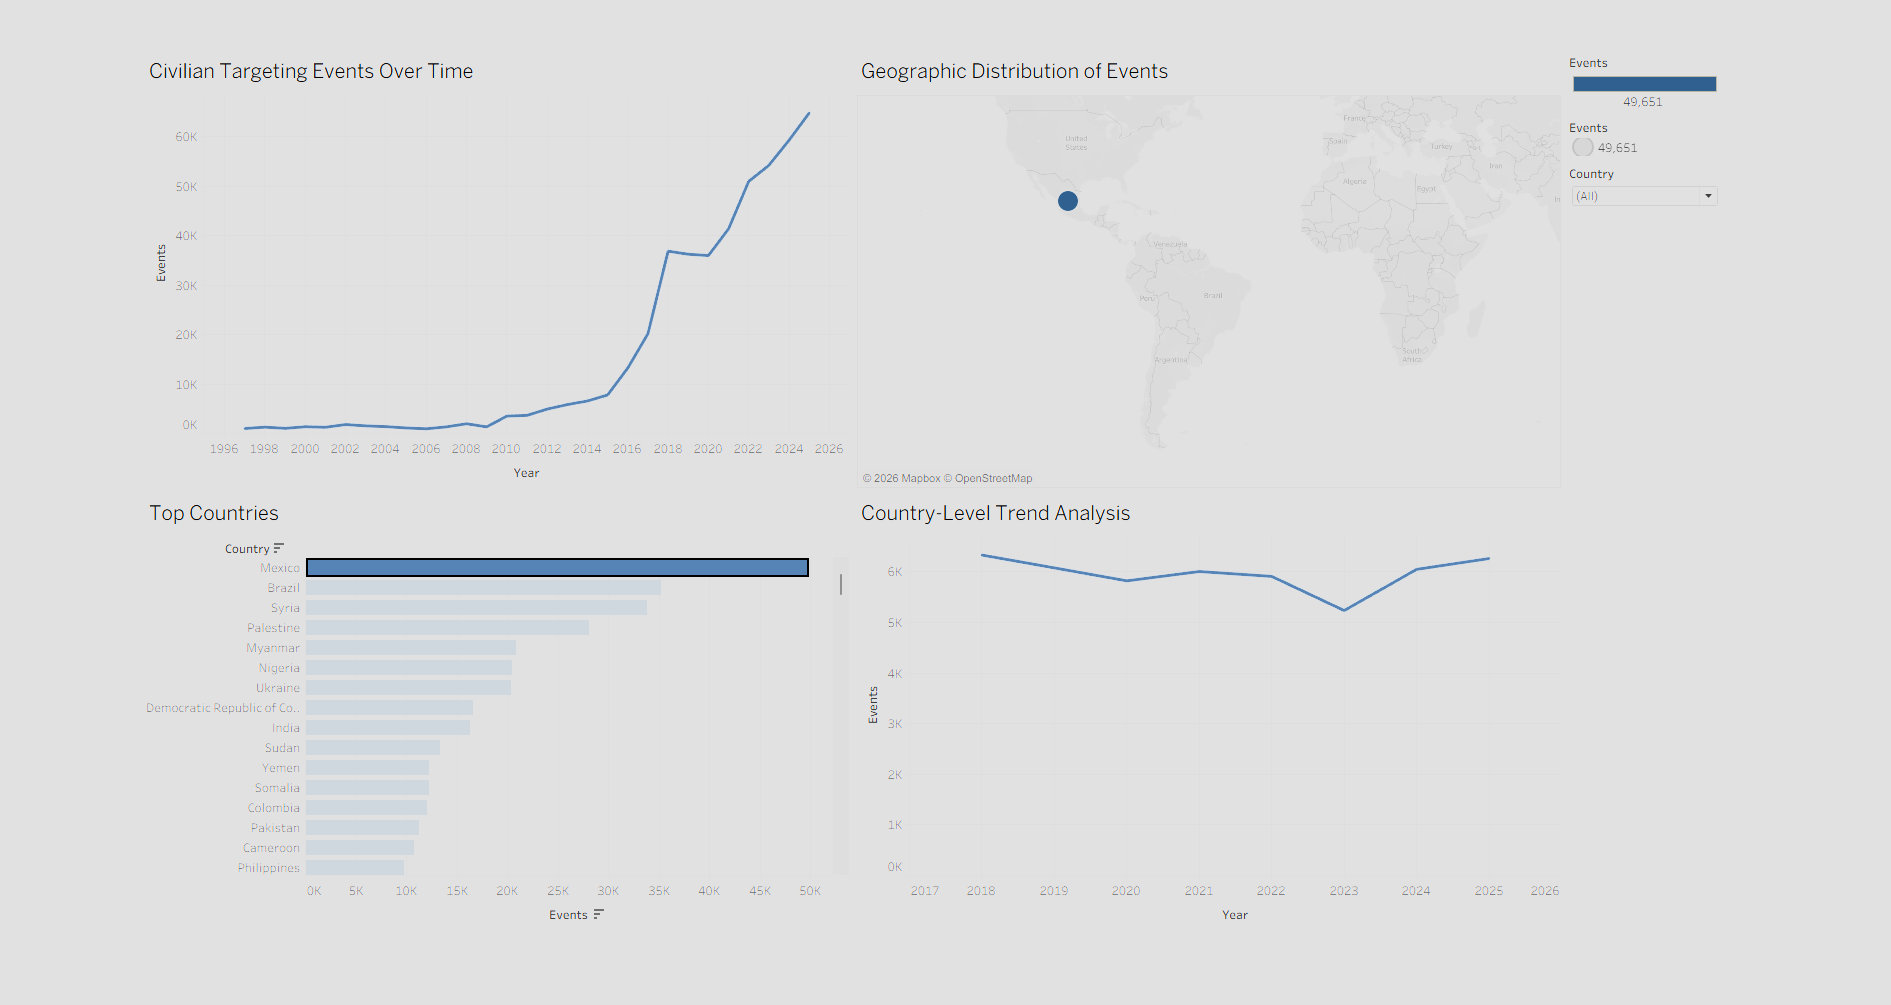

What the dashboard file says about the page in this screenshot:
{"tool":"tableau","page":{"name":"Global Civilian Targeting Trends (1997–2025)","canvas":[1600,900],"ordinal":0},"visuals":[{"type":"worksheet","title":"Civilian Targeting Events Over Time","mark":"Line","rows":["EVENTS"],"cols":["YEAR"],"box":[8,8,712,442]},{"type":"worksheet","title":"Geographic Distribution of Events","mark":"Automatic","box":[720,8,712,442]},{"type":"legend","title":"Geographic Distribution of Events","param":"[federated.1ddag7g0ywades10dh21y1sna26i].[sum:EVENTS:qk]","box":[1432,8,160,65]},{"type":"legend","title":"Geographic Distribution of Events","param":"[federated.1ddag7g0ywades10dh21y1sna26i].[sum:EVENTS:qk]","box":[1432,73,160,146]},{"type":"filter","title":"Country-Level Trend Analysis","param":"[federated.1ddag7g0ywades10dh21y1sna26i].[none:COUNTRY:nk]","box":[1432,219,160,52]},{"type":"worksheet","title":"Top Countries","mark":"Automatic","rows":["COUNTRY"],"cols":["EVENTS"],"box":[8,450,712,442]},{"type":"worksheet","title":"Country-Level Trend Analysis","mark":"Automatic","rows":["EVENTS"],"cols":["YEAR"],"box":[720,450,712,442]}]}

Visuals, with their boxes on the page's 1600x900 design canvas (x1, y1, x2, y2). These are canvas units, not pixel positions in the 1891x1005 screenshot, which may show the page scaled, cropped or inside an application window:
"Civilian Targeting Events Over Time" worksheet (Line marks): 8:8:720:450
"Geographic Distribution of Events" worksheet: 720:8:1432:450
"Geographic Distribution of Events" legend: 1432:8:1592:73
"Geographic Distribution of Events" legend: 1432:73:1592:219
"Country-Level Trend Analysis" filter: 1432:219:1592:271
"Top Countries" worksheet: 8:450:720:892
"Country-Level Trend Analysis" worksheet: 720:450:1432:892
